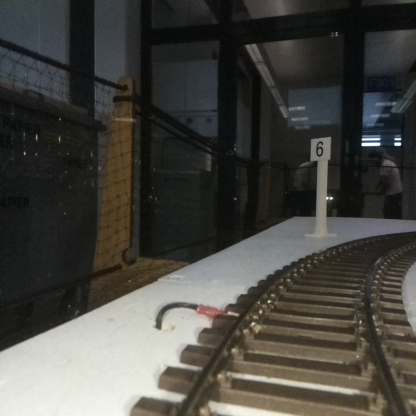white-info-6: (311, 137, 330, 236)
